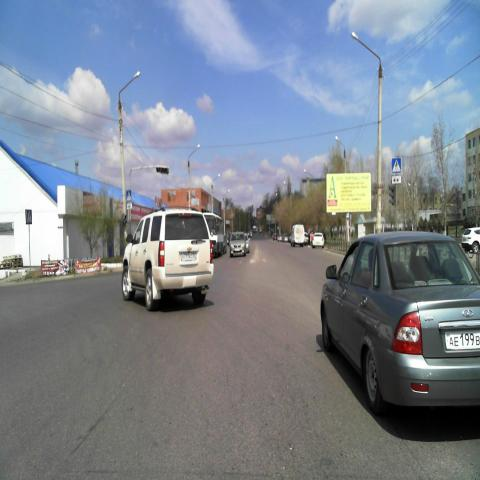8_15: (390, 175, 402, 185)
